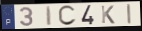3: (19, 6, 35, 28)
4: (80, 4, 95, 26)
C: (57, 5, 78, 27)
I: (45, 6, 53, 27), (126, 3, 133, 25)
K: (100, 5, 116, 25)
